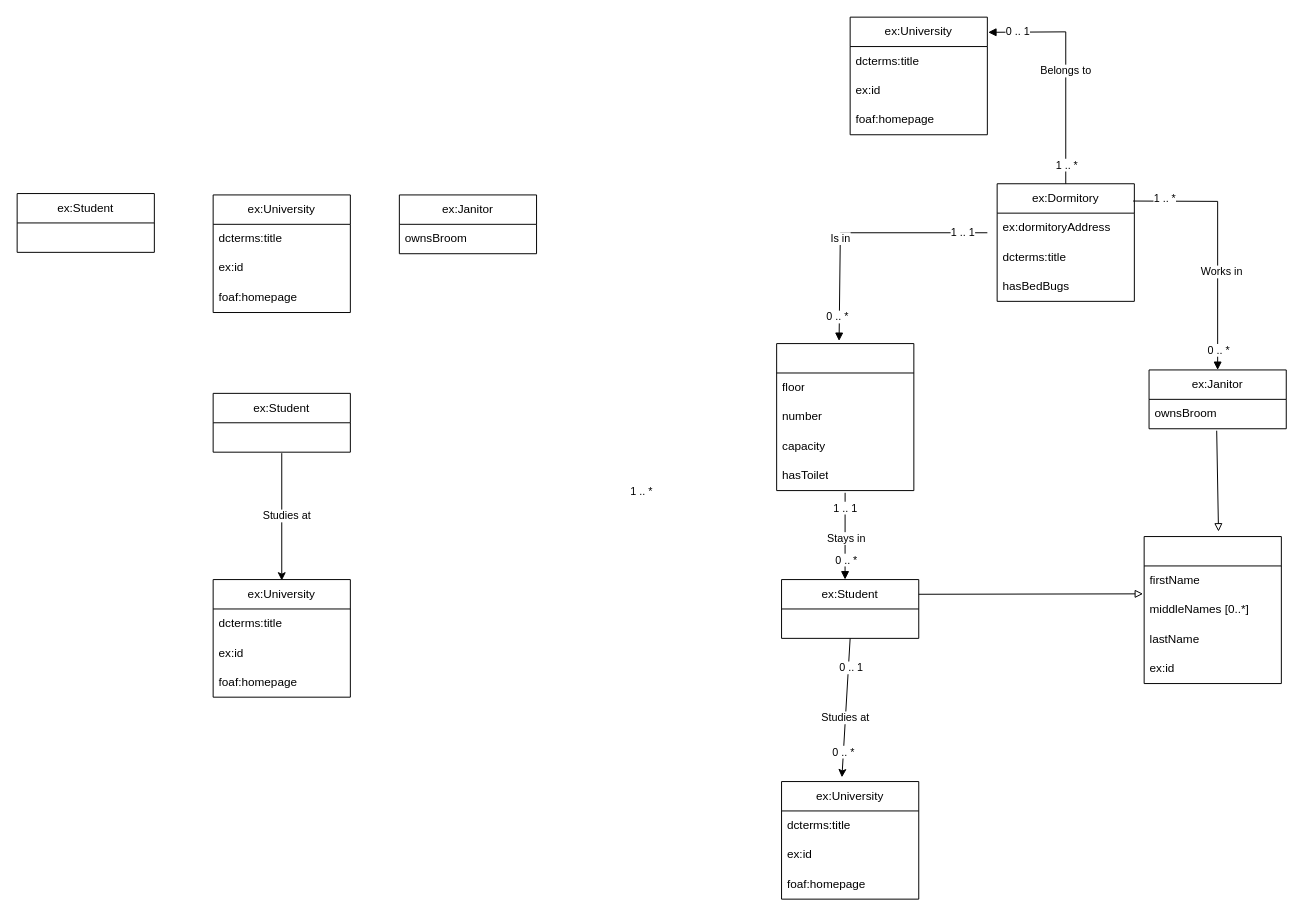
This 1303x916 diagram has some shape labels left out. Each missing label, with the box of its shape:
ex:DormRoom: (776, 343, 914, 491)
ex:Person: (1143, 536, 1281, 684)
